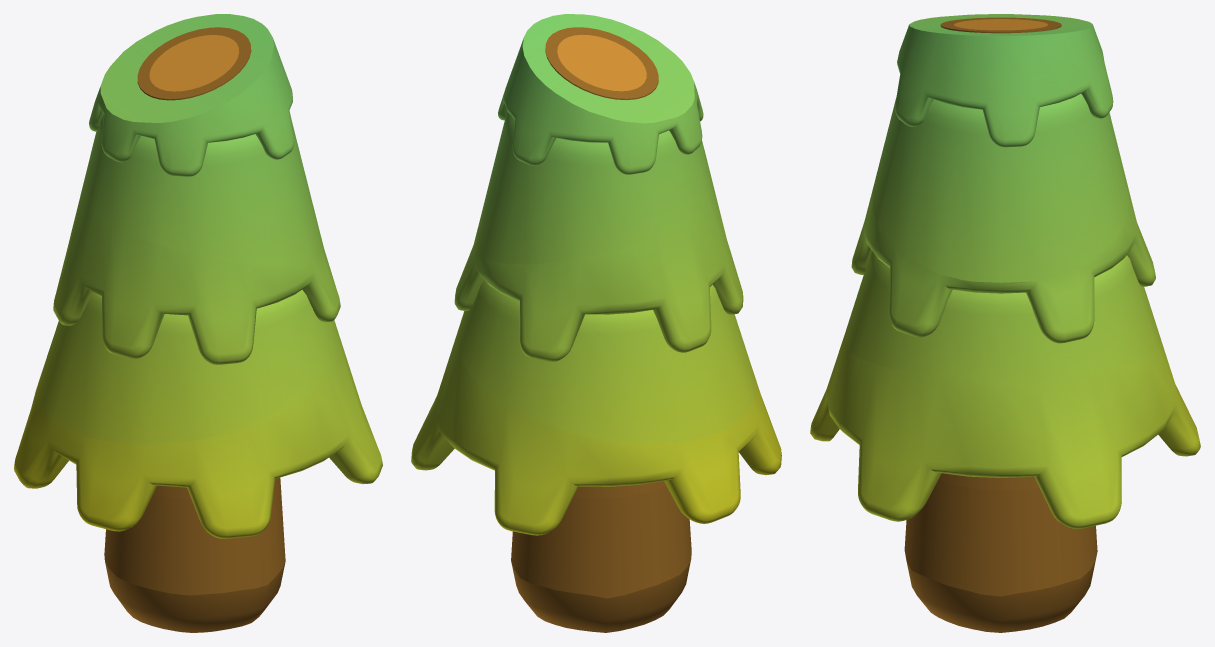
The model's file is tree1 80%.fbx.
3 views of the same model, side by side, from view 1: azimuth 30°, elevation 25°; view 2: azimuth 150°, elevation 25°; view 3: azimuth 270°, elevation 25° (orthographic). The views are drawn at different scales.
Parts seen in each view (by area): view 1: Cylinder.008; view 2: Cylinder.008; view 3: Cylinder.008.
Part boxes in pixels (x1,y1,x2,y2): Cylinder.008: (14, 14, 382, 632); Cylinder.008: (411, 14, 781, 632); Cylinder.008: (810, 14, 1200, 632).
Bounding box in the file's own units: 90.83 × 162 × 94.36.
